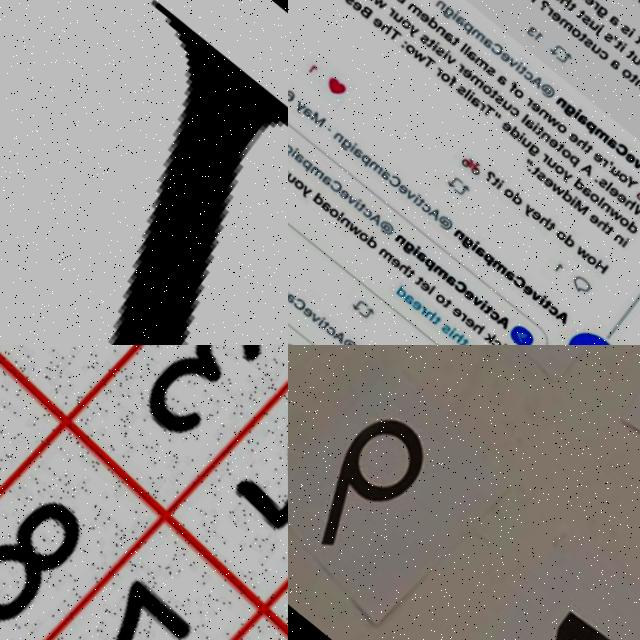2: (218, 376, 288, 545), (288, 88, 292, 101)
3: (122, 345, 283, 455)
7: (30, 561, 202, 640), (485, 591, 616, 640)
8: (0, 476, 102, 640)
9: (288, 388, 454, 576)
A: (488, 309, 506, 327), (420, 203, 438, 220), (362, 209, 379, 226), (548, 306, 565, 322), (599, 132, 616, 147), (575, 158, 592, 173), (438, 271, 453, 286), (439, 27, 453, 42), (326, 328, 340, 343), (478, 33, 492, 47), (451, 11, 465, 25), (527, 72, 541, 86), (605, 10, 619, 23), (605, 54, 619, 67), (572, 109, 585, 123), (463, 47, 477, 60), (519, 114, 533, 127), (575, 181, 589, 194), (497, 266, 511, 279), (374, 167, 388, 180), (347, 144, 360, 158), (409, 248, 423, 261), (315, 172, 329, 185), (396, 291, 410, 304), (492, 70, 505, 83), (468, 243, 481, 256), (288, 149, 301, 162), (466, 94, 478, 105), (298, 106, 309, 117), (315, 199, 326, 210), (288, 290, 291, 303)
B: (356, 3, 371, 17), (634, 54, 640, 69)
C: (486, 38, 503, 54), (505, 271, 522, 287), (609, 138, 626, 153), (323, 177, 339, 192), (383, 172, 398, 187), (447, 277, 462, 292), (288, 295, 302, 310), (593, 44, 607, 58), (504, 102, 518, 115), (540, 301, 554, 314), (481, 306, 495, 319), (415, 200, 427, 211), (357, 206, 368, 217), (319, 324, 330, 335), (520, 67, 530, 78), (483, 335, 494, 345)
D: (505, 188, 521, 204), (389, 282, 404, 297), (621, 216, 636, 230), (567, 173, 582, 187), (557, 231, 572, 245), (359, 233, 374, 247), (306, 191, 321, 205), (504, 122, 519, 136), (556, 185, 570, 199), (424, 14, 438, 27)
E: (390, 180, 405, 194), (587, 147, 601, 161), (415, 8, 429, 22), (582, 209, 596, 223), (537, 173, 551, 187), (524, 205, 538, 219), (456, 313, 470, 327), (619, 147, 633, 160), (494, 47, 508, 60), (563, 127, 576, 141), (526, 97, 539, 111), (610, 188, 624, 201), (602, 181, 616, 194), (542, 133, 556, 146), (457, 64, 471, 77), (515, 280, 528, 294), (456, 286, 470, 299), (412, 277, 425, 291), (403, 296, 417, 309), (547, 7, 560, 20), (496, 118, 509, 131), (383, 254, 396, 267), (295, 304, 308, 317), (333, 187, 345, 198), (444, 304, 456, 315), (370, 15, 381, 26), (348, 0, 360, 9), (635, 34, 640, 48), (580, 0, 593, 3)
F: (504, 78, 515, 90), (444, 73, 455, 84)
G: (394, 237, 412, 254), (592, 0, 607, 17), (558, 100, 573, 114), (438, 3, 453, 17), (522, 140, 537, 154), (455, 233, 469, 247), (335, 136, 348, 150)
H: (588, 256, 604, 271), (377, 19, 391, 34), (444, 327, 458, 341), (591, 214, 605, 227), (465, 318, 478, 332), (572, 133, 585, 146), (619, 193, 632, 206), (533, 211, 546, 224), (392, 259, 405, 272), (418, 306, 431, 319), (556, 0, 569, 3)
I: (405, 242, 417, 254), (464, 237, 475, 248), (343, 140, 354, 151), (407, 190, 417, 202), (615, 38, 625, 49), (615, 233, 625, 244), (532, 292, 542, 303), (473, 297, 483, 308), (428, 39, 438, 49), (624, 23, 633, 34), (448, 7, 457, 18), (439, 46, 448, 57), (569, 105, 578, 115), (511, 58, 520, 68), (463, 88, 472, 98), (565, 192, 574, 202), (491, 177, 500, 187), (349, 196, 358, 206), (441, 324, 450, 334), (310, 315, 319, 325), (288, 144, 295, 156), (513, 130, 522, 139), (528, 119, 536, 128), (634, 157, 640, 168), (492, 340, 501, 345), (637, 77, 640, 87)
J: (0, 0, 288, 345), (591, 20, 604, 34)
K: (476, 328, 490, 342)
L: (456, 39, 466, 50), (459, 42, 469, 52), (600, 177, 609, 188), (517, 110, 526, 120), (592, 192, 601, 202), (460, 86, 469, 96), (421, 283, 430, 293), (331, 209, 340, 219), (495, 342, 504, 345)
M: (304, 109, 323, 127), (588, 122, 606, 139), (485, 256, 503, 273), (567, 195, 585, 212), (466, 24, 483, 40), (304, 163, 321, 179), (372, 245, 389, 261), (470, 52, 486, 68), (362, 158, 379, 173), (426, 262, 443, 277), (555, 13, 571, 28), (466, 71, 482, 86), (403, 0, 420, 14)
N: (594, 196, 608, 210), (447, 225, 461, 239), (551, 93, 565, 106), (533, 104, 547, 117), (535, 127, 549, 140), (606, 229, 620, 242), (388, 231, 402, 244), (432, 22, 444, 34), (329, 130, 340, 141), (335, 215, 346, 226), (630, 74, 640, 85), (432, 0, 444, 7)
O: (566, 22, 580, 36), (508, 83, 522, 97), (555, 143, 569, 157), (583, 188, 597, 201), (427, 290, 441, 303), (322, 205, 336, 218), (611, 167, 625, 180), (478, 80, 491, 93), (401, 40, 414, 53), (549, 225, 562, 238), (352, 229, 365, 242), (613, 212, 626, 224), (436, 68, 448, 81), (552, 119, 564, 131), (580, 251, 592, 262), (288, 178, 300, 189), (618, 64, 629, 75), (398, 16, 409, 27), (550, 161, 561, 172), (498, 184, 509, 195)
P: (474, 248, 490, 264), (457, 17, 472, 31), (562, 150, 577, 164), (580, 116, 594, 130), (416, 255, 430, 269), (295, 157, 309, 171), (353, 151, 367, 164)
R: (595, 153, 605, 164), (542, 4, 552, 13), (521, 94, 530, 103), (453, 61, 462, 70), (536, 149, 545, 158), (431, 65, 440, 74), (452, 310, 461, 319), (385, 5, 393, 15), (413, 303, 421, 313), (474, 99, 482, 108), (588, 0, 597, 6)
S: (452, 81, 464, 93), (600, 28, 611, 40), (593, 173, 604, 185), (490, 90, 501, 102), (434, 321, 446, 332), (617, 20, 628, 31), (580, 34, 591, 45), (416, 31, 427, 42), (531, 167, 542, 178), (432, 43, 442, 55), (579, 10, 589, 21), (482, 63, 493, 73), (342, 0, 352, 3)
T: (417, 51, 435, 69), (477, 101, 492, 115), (385, 25, 399, 39), (579, 139, 591, 152), (597, 220, 609, 233), (350, 199, 362, 212), (447, 33, 459, 45), (535, 295, 547, 307), (514, 61, 525, 73), (409, 194, 420, 206), (622, 45, 633, 56), (574, 28, 585, 39), (485, 86, 496, 97), (422, 35, 433, 46), (526, 163, 537, 174), (451, 334, 462, 345), (408, 273, 419, 284), (476, 301, 487, 312), (610, 35, 620, 46), (573, 5, 583, 16), (564, 0, 575, 10), (625, 69, 635, 80), (551, 139, 561, 150), (541, 218, 551, 229), (314, 318, 324, 329), (400, 266, 410, 277), (531, 124, 541, 133), (631, 31, 640, 40), (486, 174, 495, 183), (426, 314, 435, 323), (437, 297, 446, 306)
U: (585, 16, 596, 28), (587, 39, 598, 51), (605, 162, 617, 173), (497, 97, 509, 108), (541, 154, 553, 165), (516, 134, 528, 145), (628, 51, 639, 62), (390, 10, 401, 20), (288, 171, 292, 182)
V: (502, 53, 516, 67), (302, 310, 316, 324), (626, 153, 640, 166), (523, 287, 537, 300), (464, 292, 478, 305), (442, 52, 454, 63), (399, 188, 411, 199), (340, 192, 351, 204)
W: (568, 241, 585, 257), (625, 198, 640, 216), (545, 179, 561, 195), (542, 110, 556, 125), (342, 221, 357, 235), (603, 203, 617, 217), (409, 47, 423, 61), (370, 0, 384, 6), (460, 342, 475, 345)
Y: (515, 199, 531, 215), (618, 172, 635, 187), (294, 182, 308, 196), (403, 22, 417, 36), (289, 99, 302, 112), (555, 167, 568, 179)
